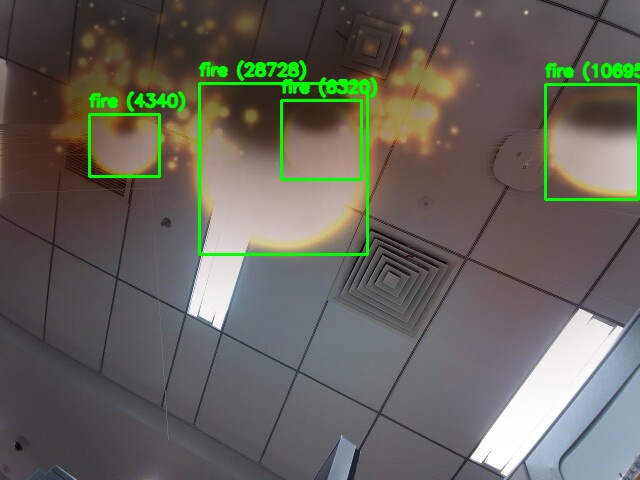fire: (199, 83, 367, 254), (545, 84, 638, 199), (281, 100, 361, 179), (89, 114, 159, 176)
